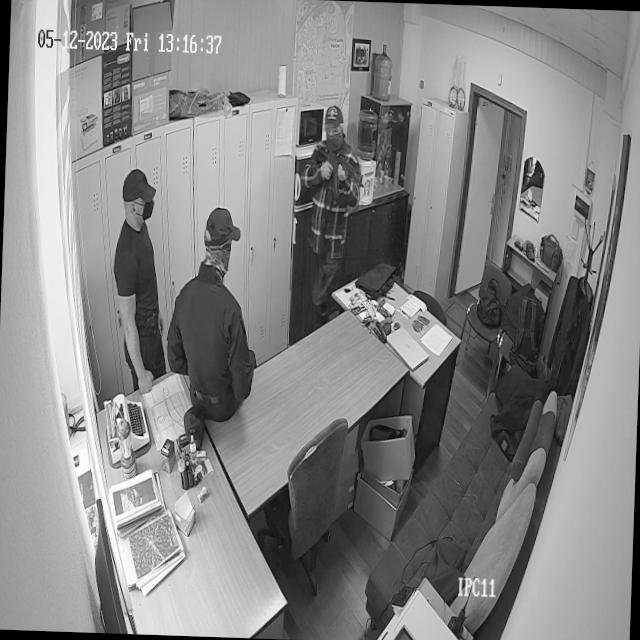gun: (312, 142, 364, 210)
person: (162, 201, 264, 422), (105, 163, 170, 393)
person with a gun: (294, 102, 368, 277)
